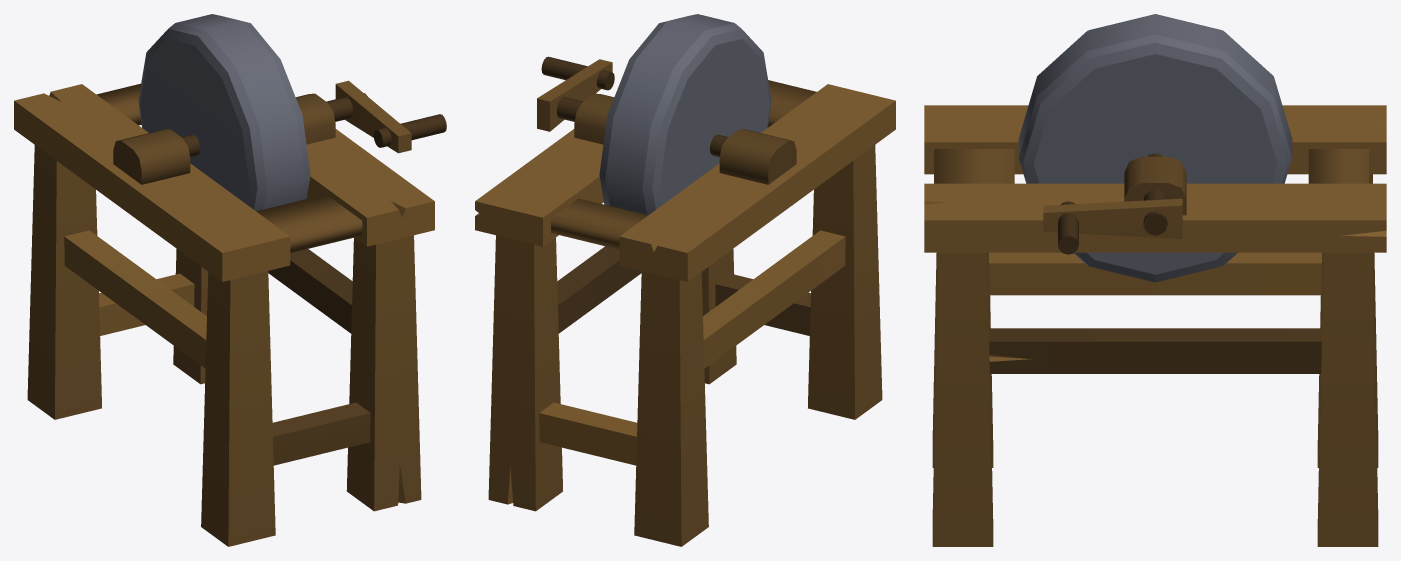
Rendered from GrindStone.fbx.
3 views of the same model, side by side, from view 1: azimuth 30°, elevation 25°; view 2: azimuth 150°, elevation 25°; view 3: azimuth 270°, elevation 25° (orthographic). The views are drawn at different scales.
Visible parts, largest first — view 1: GrindStone; view 2: GrindStone; view 3: GrindStone.
Boxes of the visible parts, <box> form: GrindStone: <box>14,14,446,546</box>; GrindStone: <box>475,14,895,546</box>; GrindStone: <box>924,14,1386,546</box>.
Bounding box in the file's own units: 92.77 × 132 × 118.
